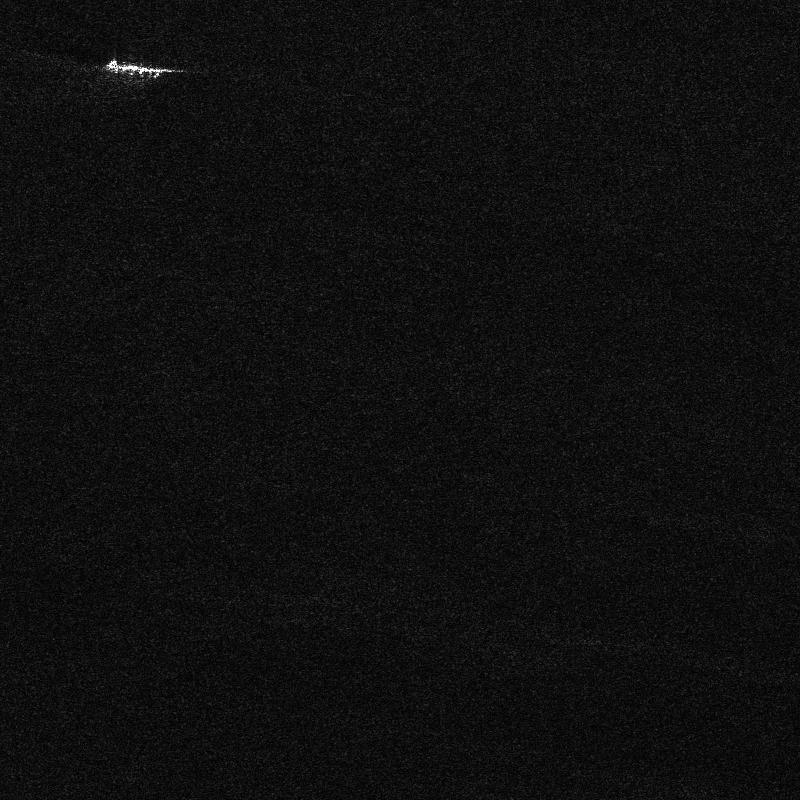ship: (105, 60, 163, 78)
